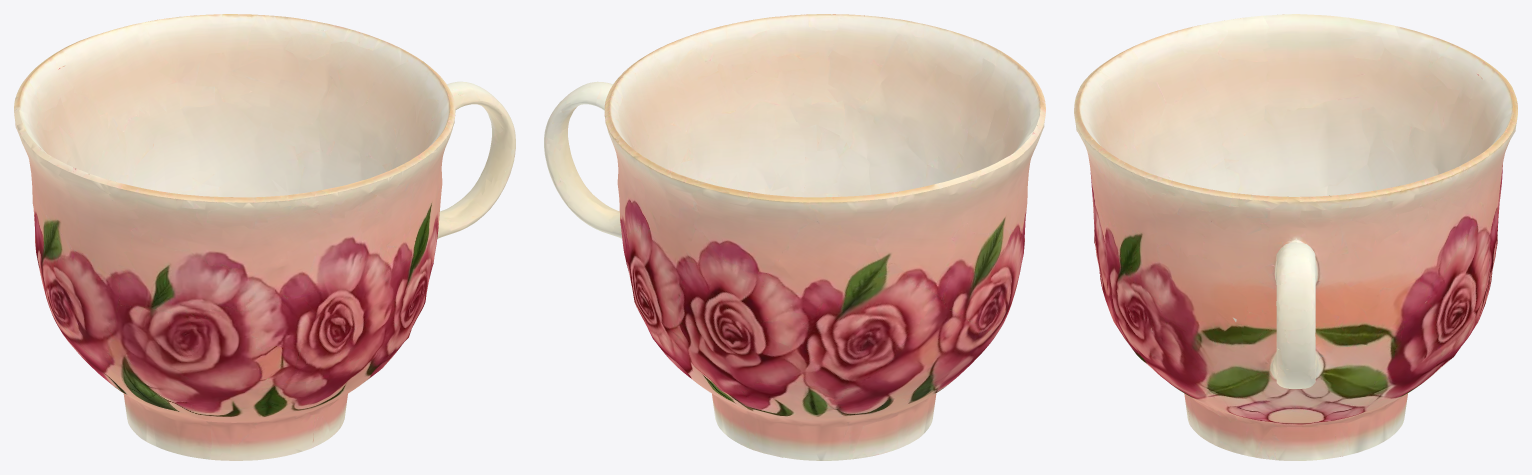
Rendered from kitchen-teacup-07.glb.
3 renders of one model, left to right at view 1: azimuth 30°, elevation 25°; view 2: azimuth 150°, elevation 25°; view 3: azimuth 270°, elevation 25°, orthographic.
Size of the model in its own units: 1.9 by 1.19 by 1.56.
1 material, 1 textured.
